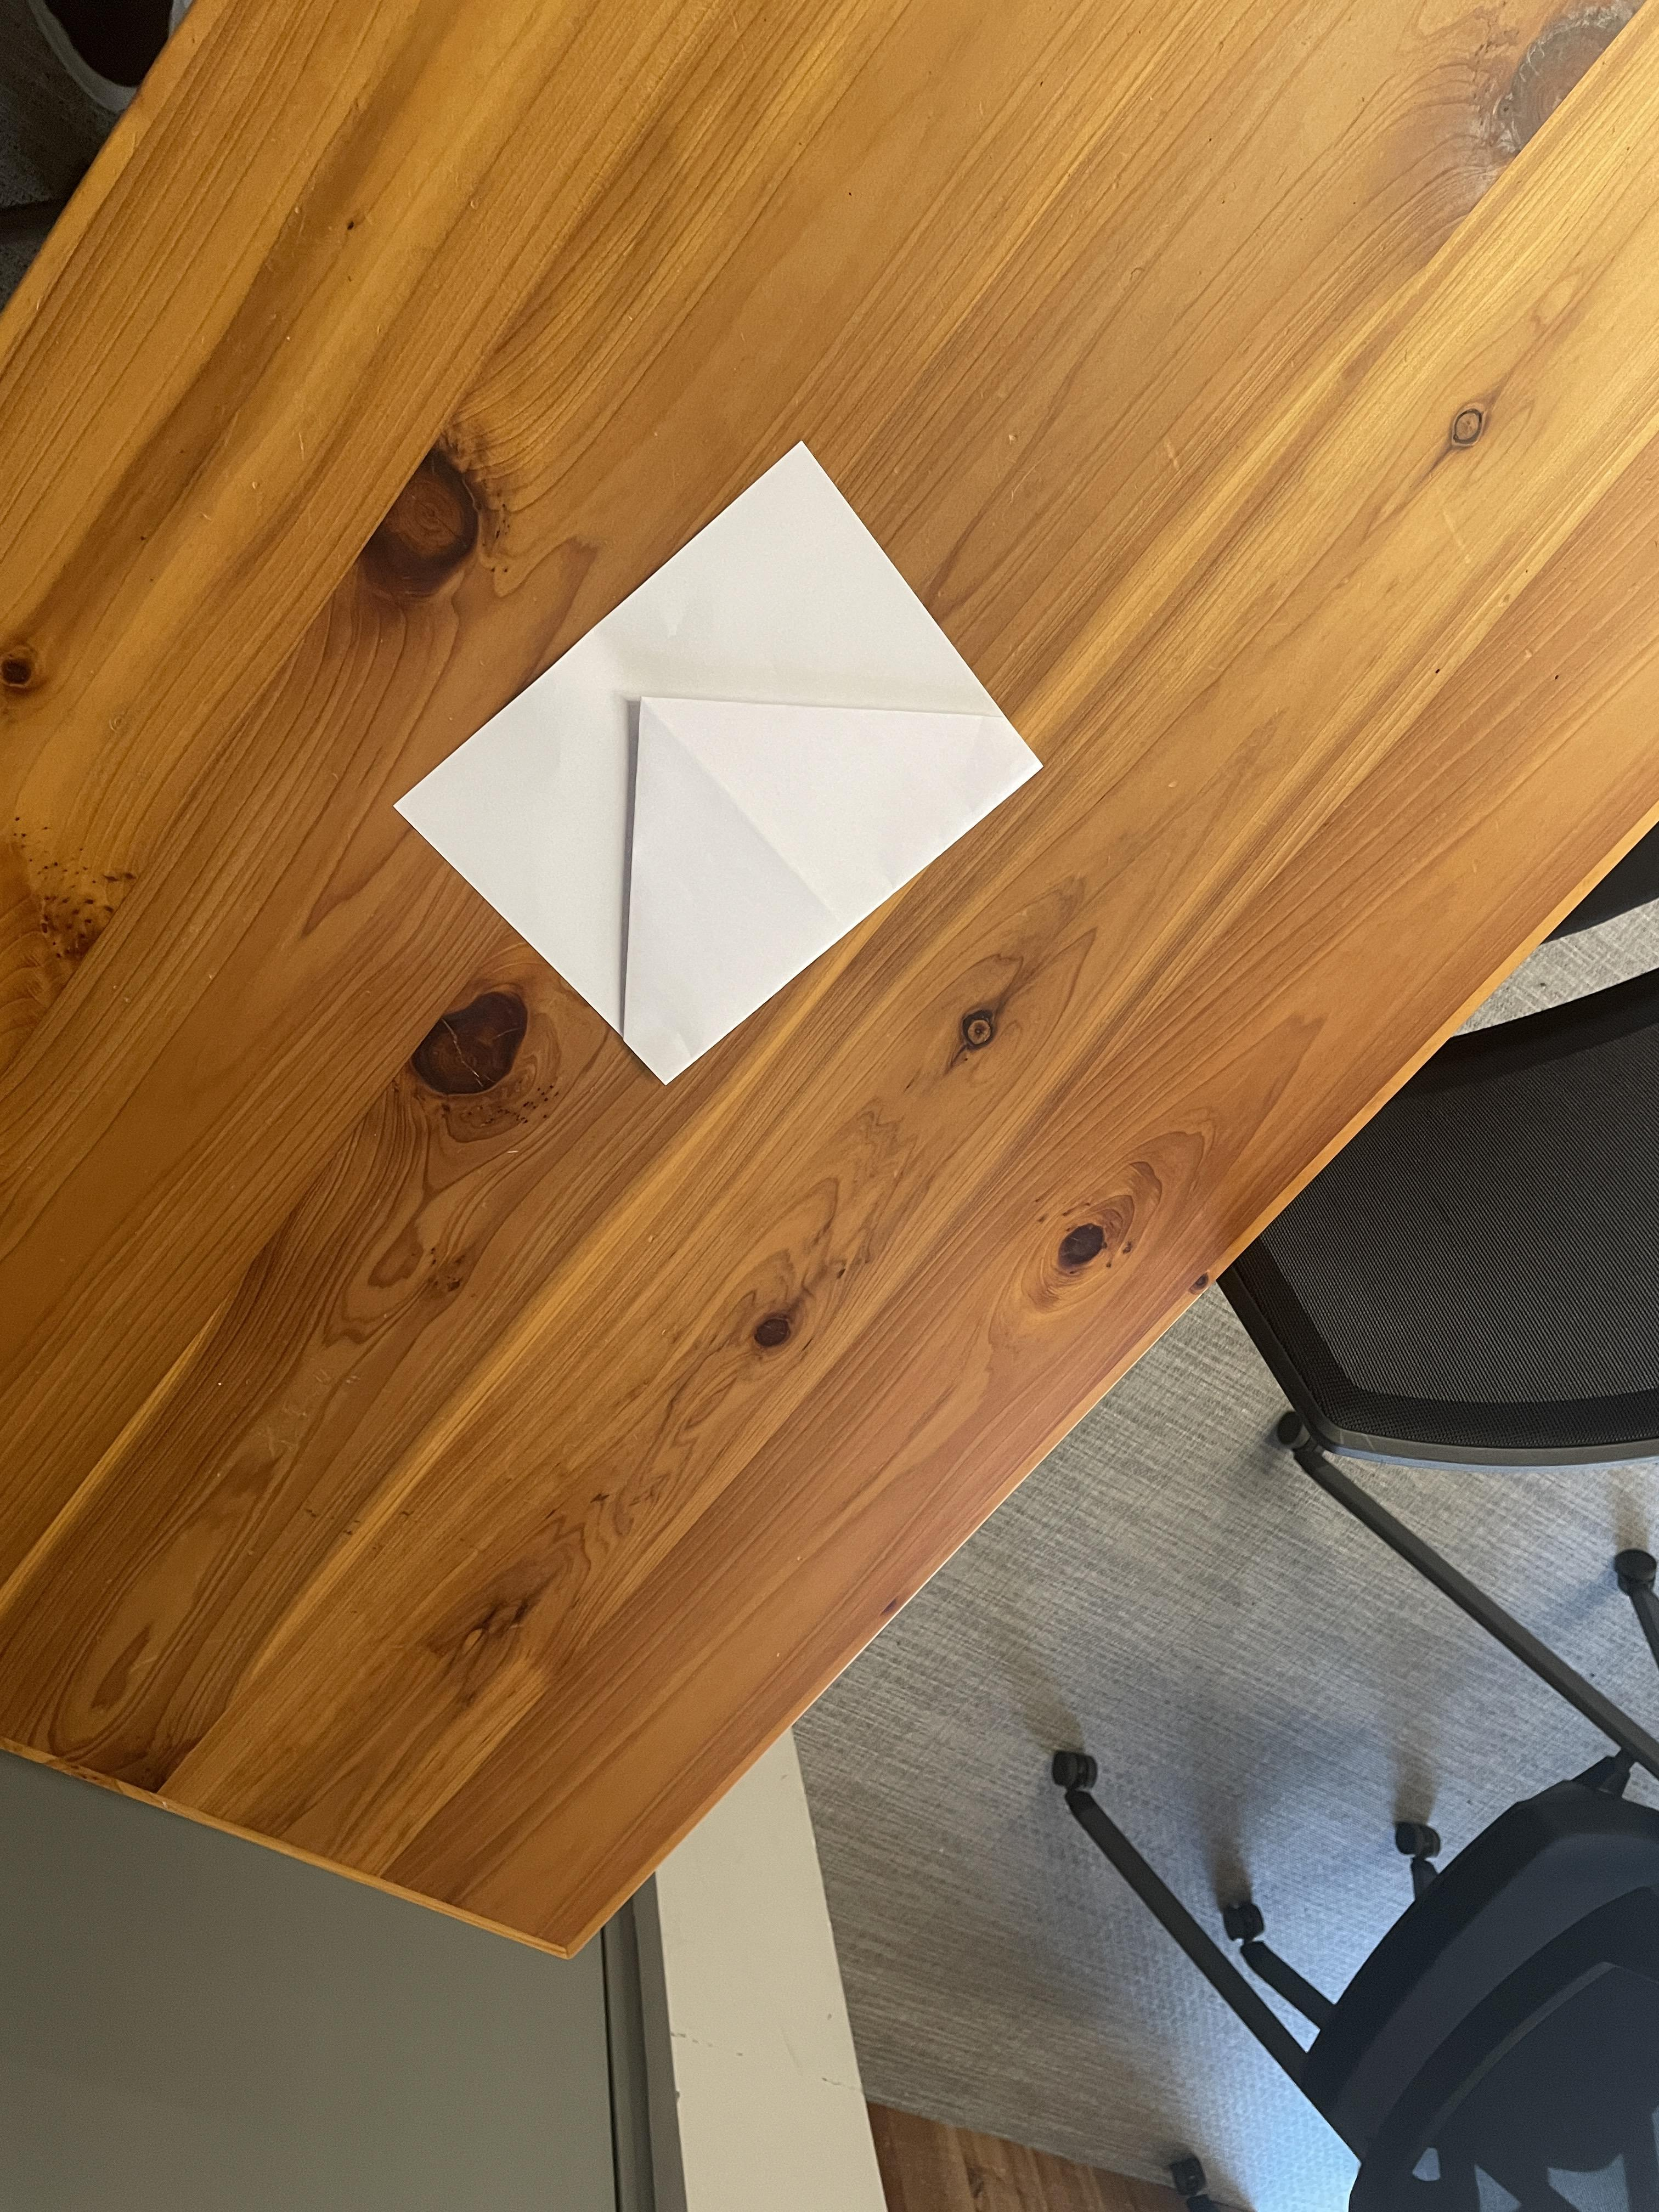shape_1: (274, 341, 1096, 1143)
